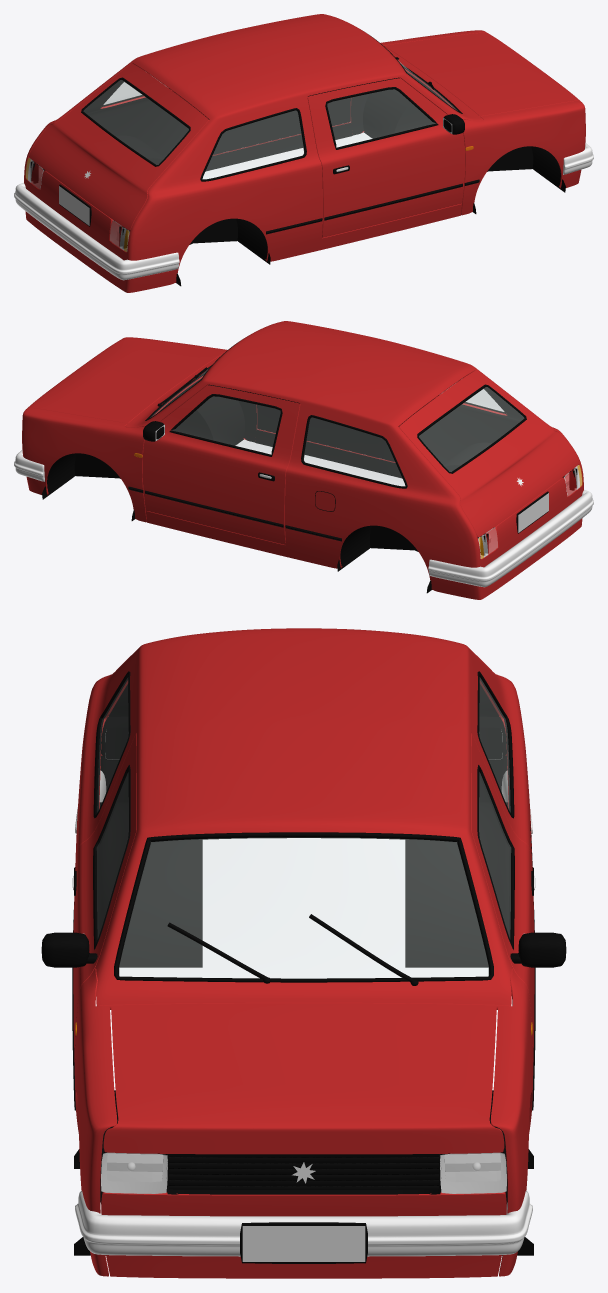
The model's file is jabuti-molde_lod1.glb.
The picture shows the model from 3 angles, top to bottom: view 1: azimuth 30°, elevation 25°; view 2: azimuth 150°, elevation 25°; view 3: azimuth 270°, elevation 25°; orthographic projection. The views are drawn at different scales.
Parts seen in each view (by area): view 1: body, door_fr, trunk, hood, fender_front_right, glass_rear, glass_door_rr, glass_door_fr, bumper_rear, door_fl, fender_front_left, plate_rear (+6 smaller); view 2: body, door_fl, trunk, hood, fender_front_left, glass_rear, glass_door_rl, glass_door_fl, bumper_rear, door_fr, fender_front_right, plate_rear (+6 smaller); view 3: body, hood, glass_windshield, bumper_front, grille, fender_front_right, fender_front_left, plate_front, door_fl, door_fr, glass_door_fl, glass_door_fr (+8 smaller).
Part boxes in pixels (<box>): body: <box>24,14,565,292</box>; door_fr: <box>307,78,465,237</box>; trunk: <box>29,63,208,230</box>; hood: <box>384,32,579,116</box>; fender_front_right: <box>461,100,585,215</box>; glass_rear: <box>81,77,190,166</box>; glass_door_rr: <box>200,108,306,181</box>; glass_door_fr: <box>325,87,438,149</box>; bumper_rear: <box>14,183,179,280</box>; door_fl: <box>213,86,351,154</box>; fender_front_left: <box>350,30,485,135</box>; plate_rear: <box>59,184,91,226</box>; body: <box>42,321,583,599</box>; door_fl: <box>142,385,300,544</box>; trunk: <box>399,370,578,537</box>; hood: <box>28,339,223,423</box>; fender_front_left: <box>22,407,146,522</box>; glass_rear: <box>417,384,526,473</box>; glass_door_rl: <box>301,415,407,488</box>; glass_door_fl: <box>169,394,282,456</box>; bumper_rear: <box>428,490,593,587</box>; door_fr: <box>256,393,394,461</box>; fender_front_right: <box>122,337,257,442</box>; plate_rear: <box>516,491,548,533</box>; body: <box>73,628,534,1278</box>; hood: <box>103,1003,504,1154</box>; glass_windshield: <box>114,832,493,982</box>; bumper_front: <box>75,1191,532,1256</box>; grille: <box>167,1154,440,1194</box>; fender_front_right: <box>74,967,117,1276</box>; fender_front_left: <box>490,967,533,1276</box>; plate_front: <box>240,1222,367,1263</box>; door_fl: <box>471,733,535,1090</box>; door_fr: <box>72,733,136,1090</box>; glass_door_fl: <box>477,765,514,949</box>; glass_door_fr: <box>93,765,130,949</box>.
Size of the model in its own units: 3.63 by 1.11 by 1.71.
Materials: 10 (1 with a texture image).
